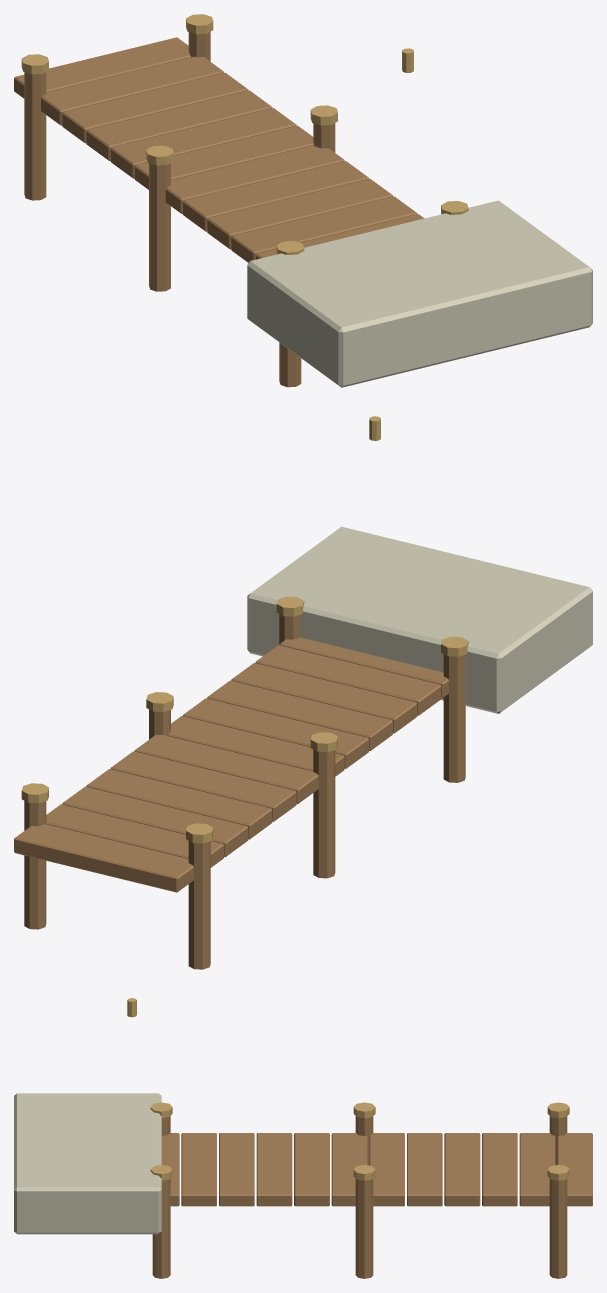
The model's file is level_02.glb.
3 views of the same model, one above another, from view 1: azimuth 30°, elevation 25°; view 2: azimuth 150°, elevation 25°; view 3: azimuth 270°, elevation 25° (orthographic). The views are drawn at different scales.
Parts seen in each view (by area): view 1: dock — level 02; view 2: dock — level 02; view 3: dock — level 02.
Boxes of the visible parts, box(x1,y1,x2,y2) form: dock — level 02: box(14, 14, 592, 387); dock — level 02: box(14, 416, 592, 969); dock — level 02: box(14, 998, 592, 1278).
Bounding box in the file's own units: 3.1 × 3.74 × 7.84.
